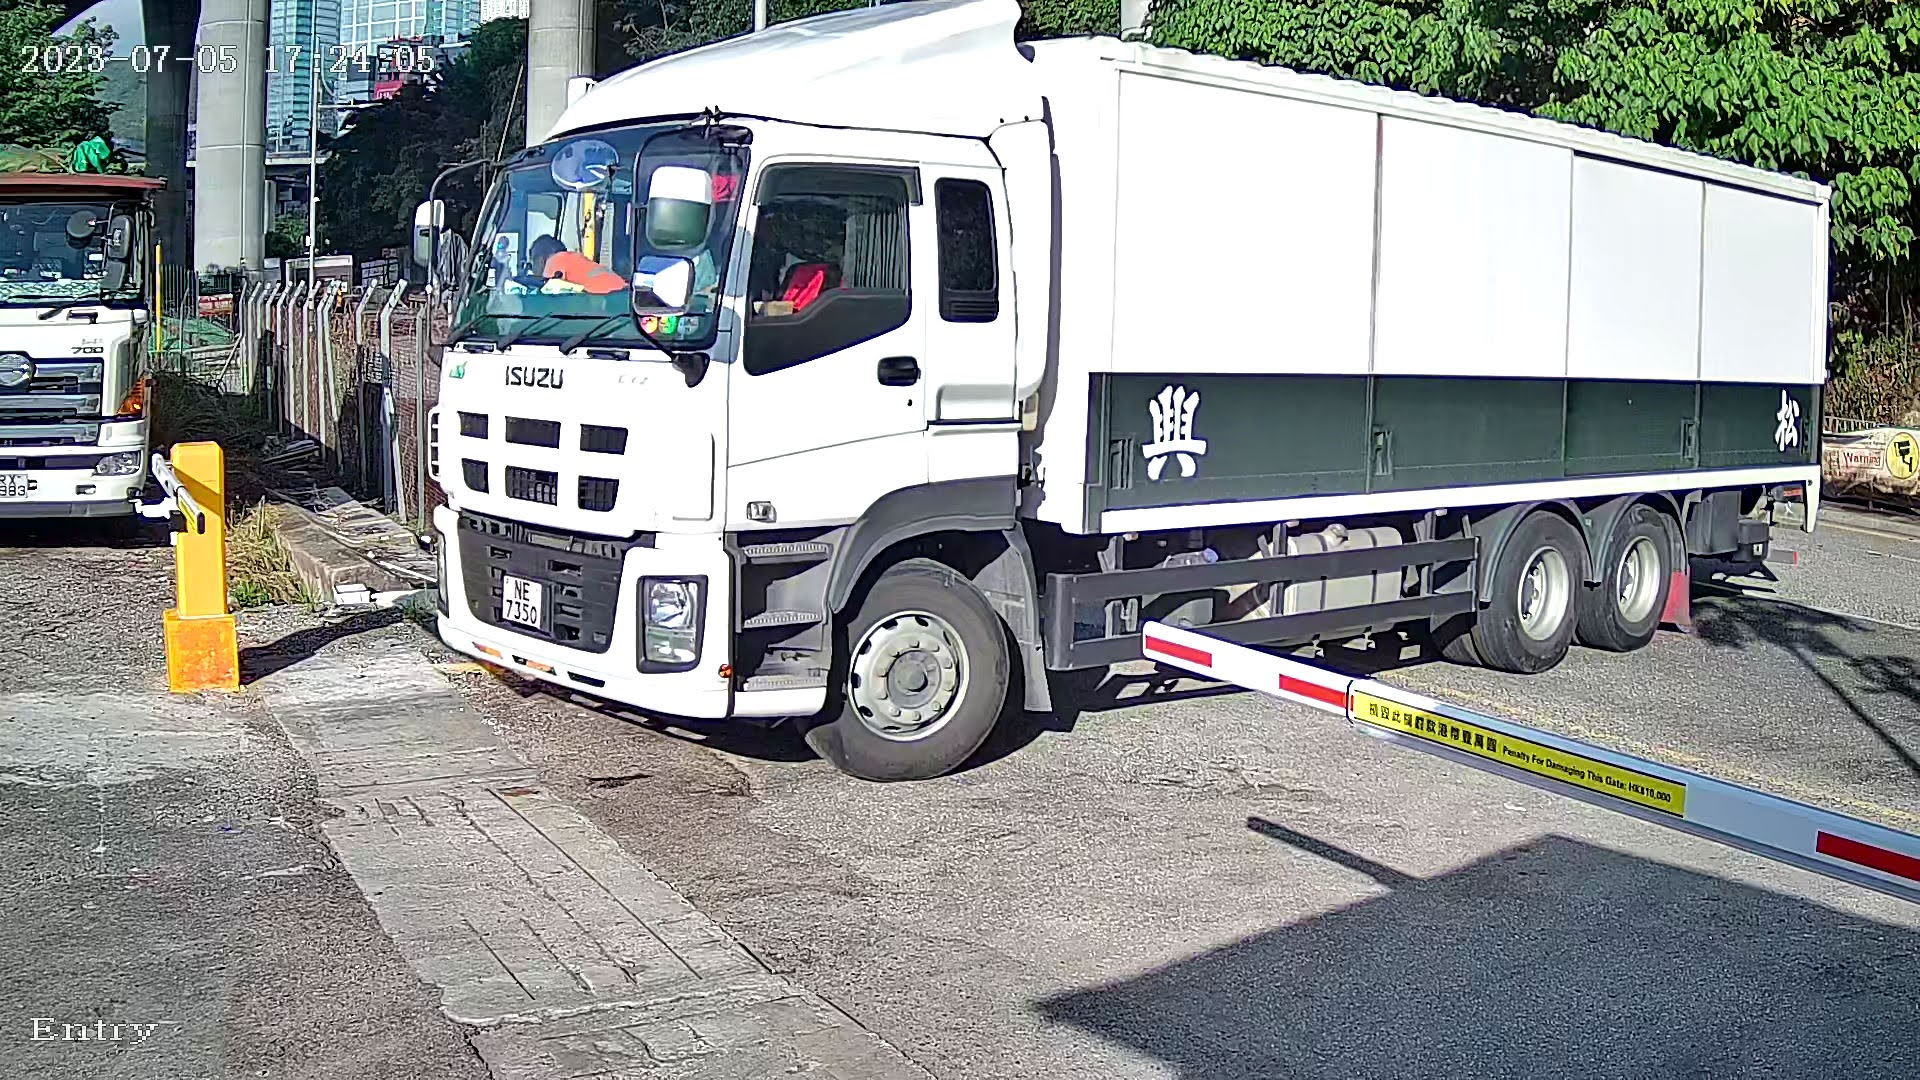truck: (390, 1, 1845, 793)
